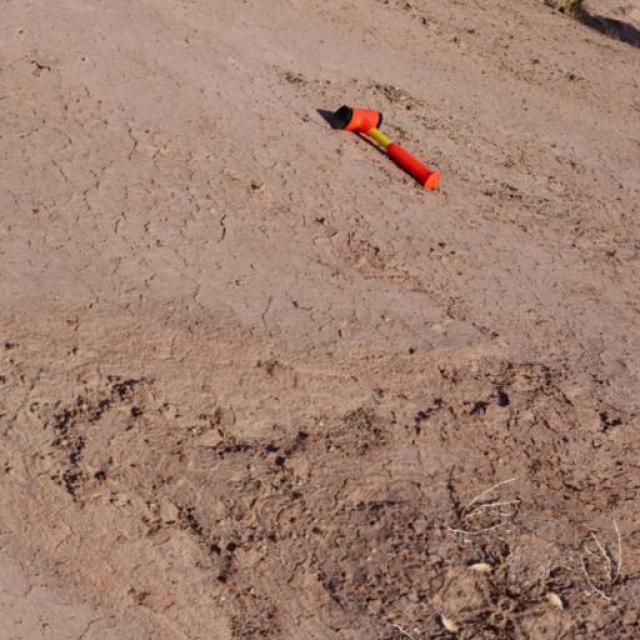mallet: (315, 102, 441, 192)
